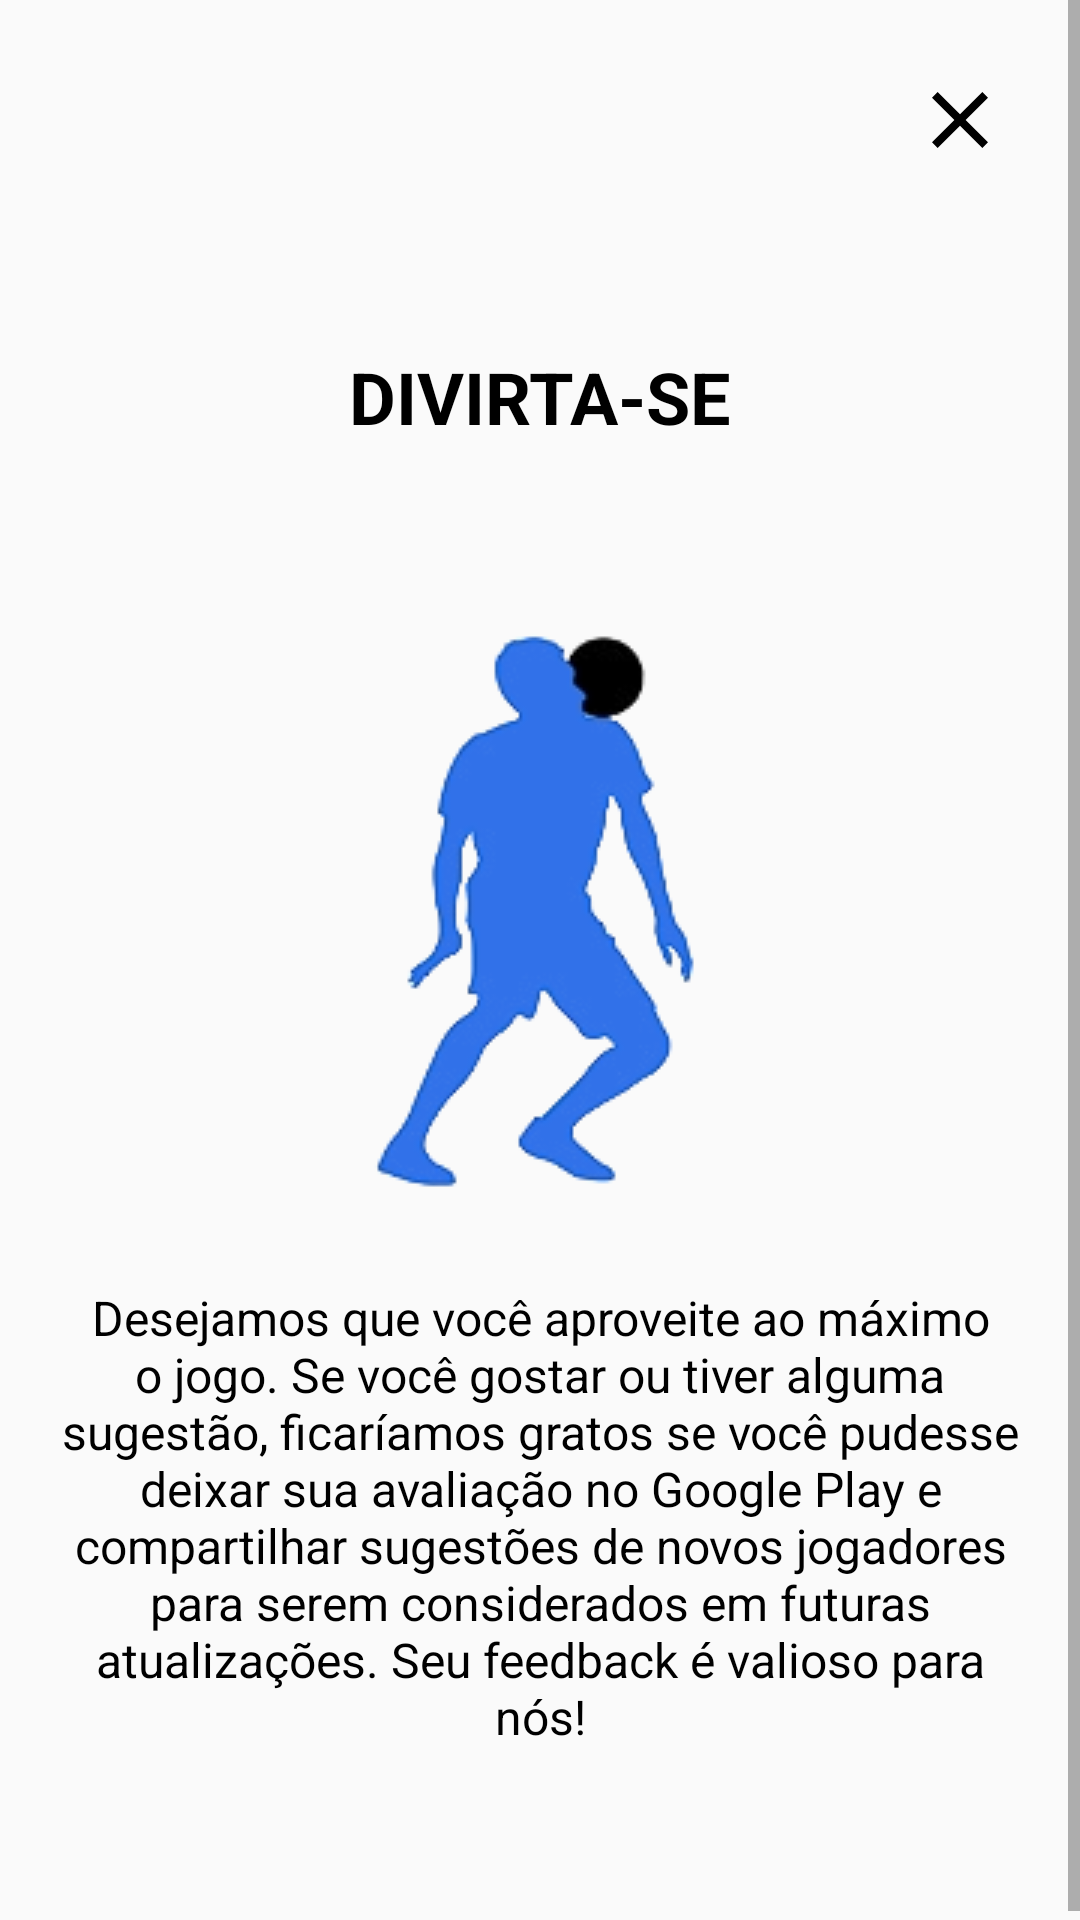

Point at icon controls on the screen. Image size 1080×1920, points as point (x, y).
close: point (960, 120)
